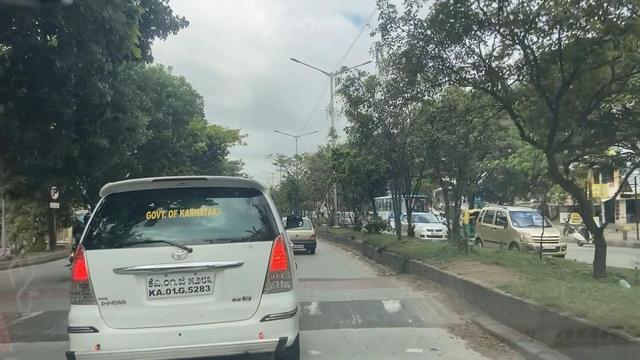LMV: (66, 151, 300, 360)
